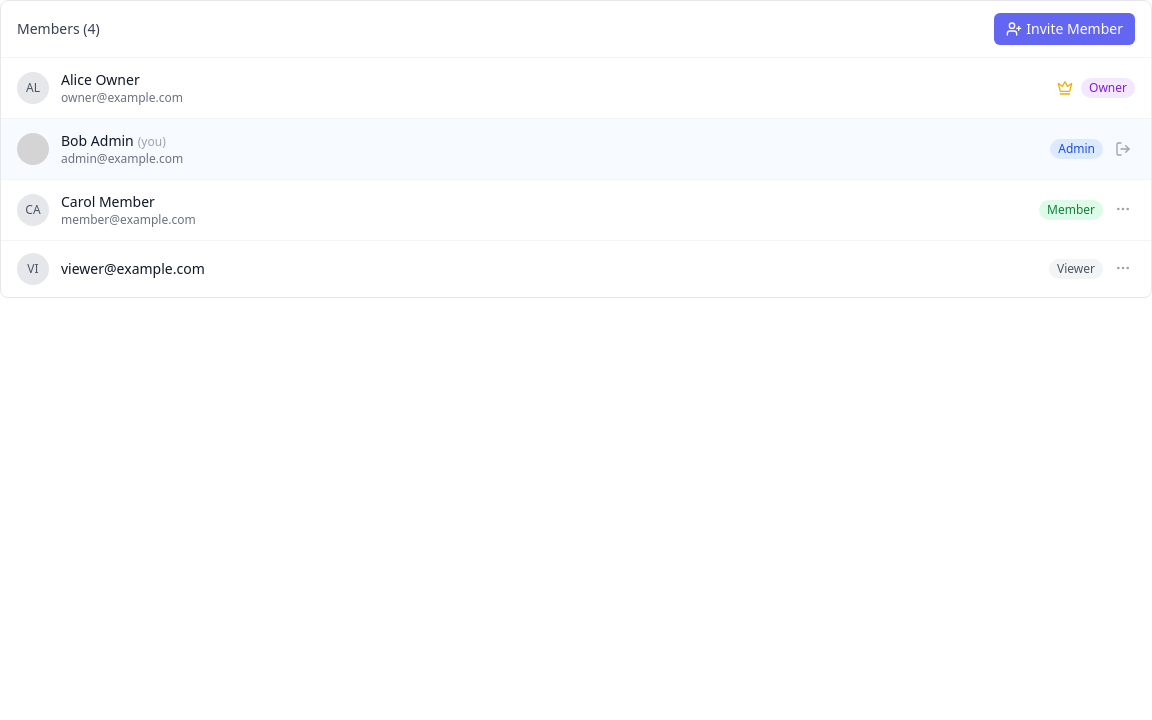
MembersList › should show leave confirmation dialog when Leave button is clicked
Step 1. Click the button named "leave workspace" → (1123, 149), box [1111, 137, 1135, 161]
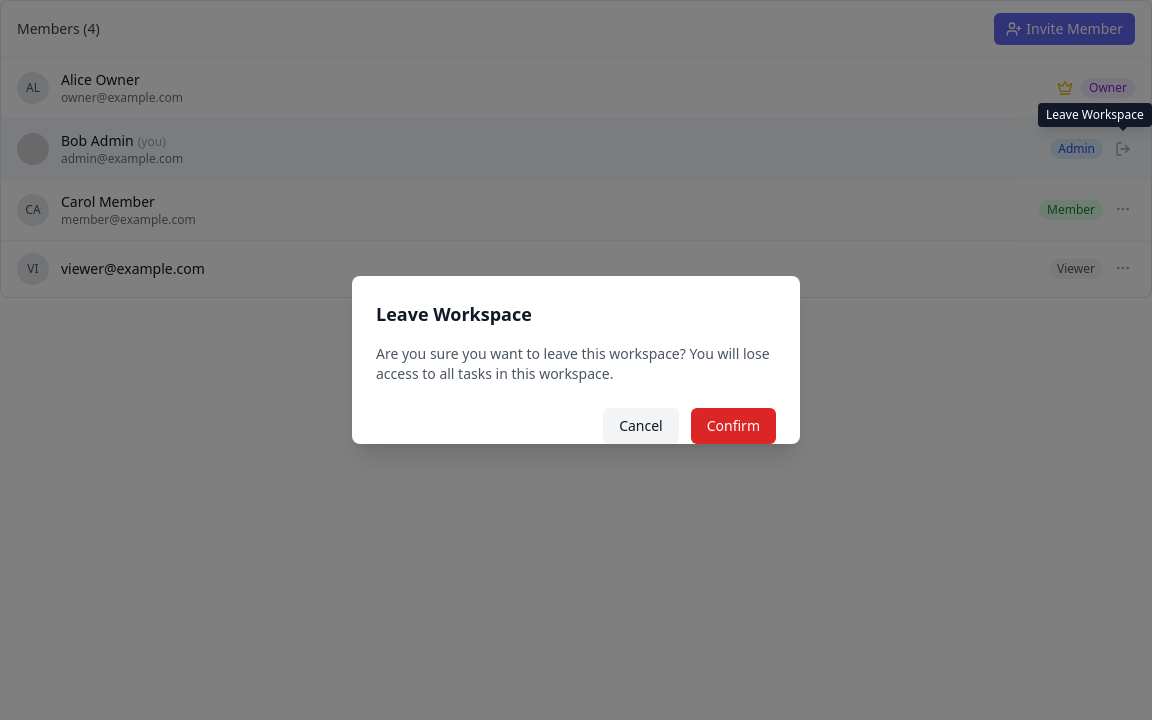
Expected: the text "Are you sure you want to leave" is shown, [376, 344, 770, 383]
